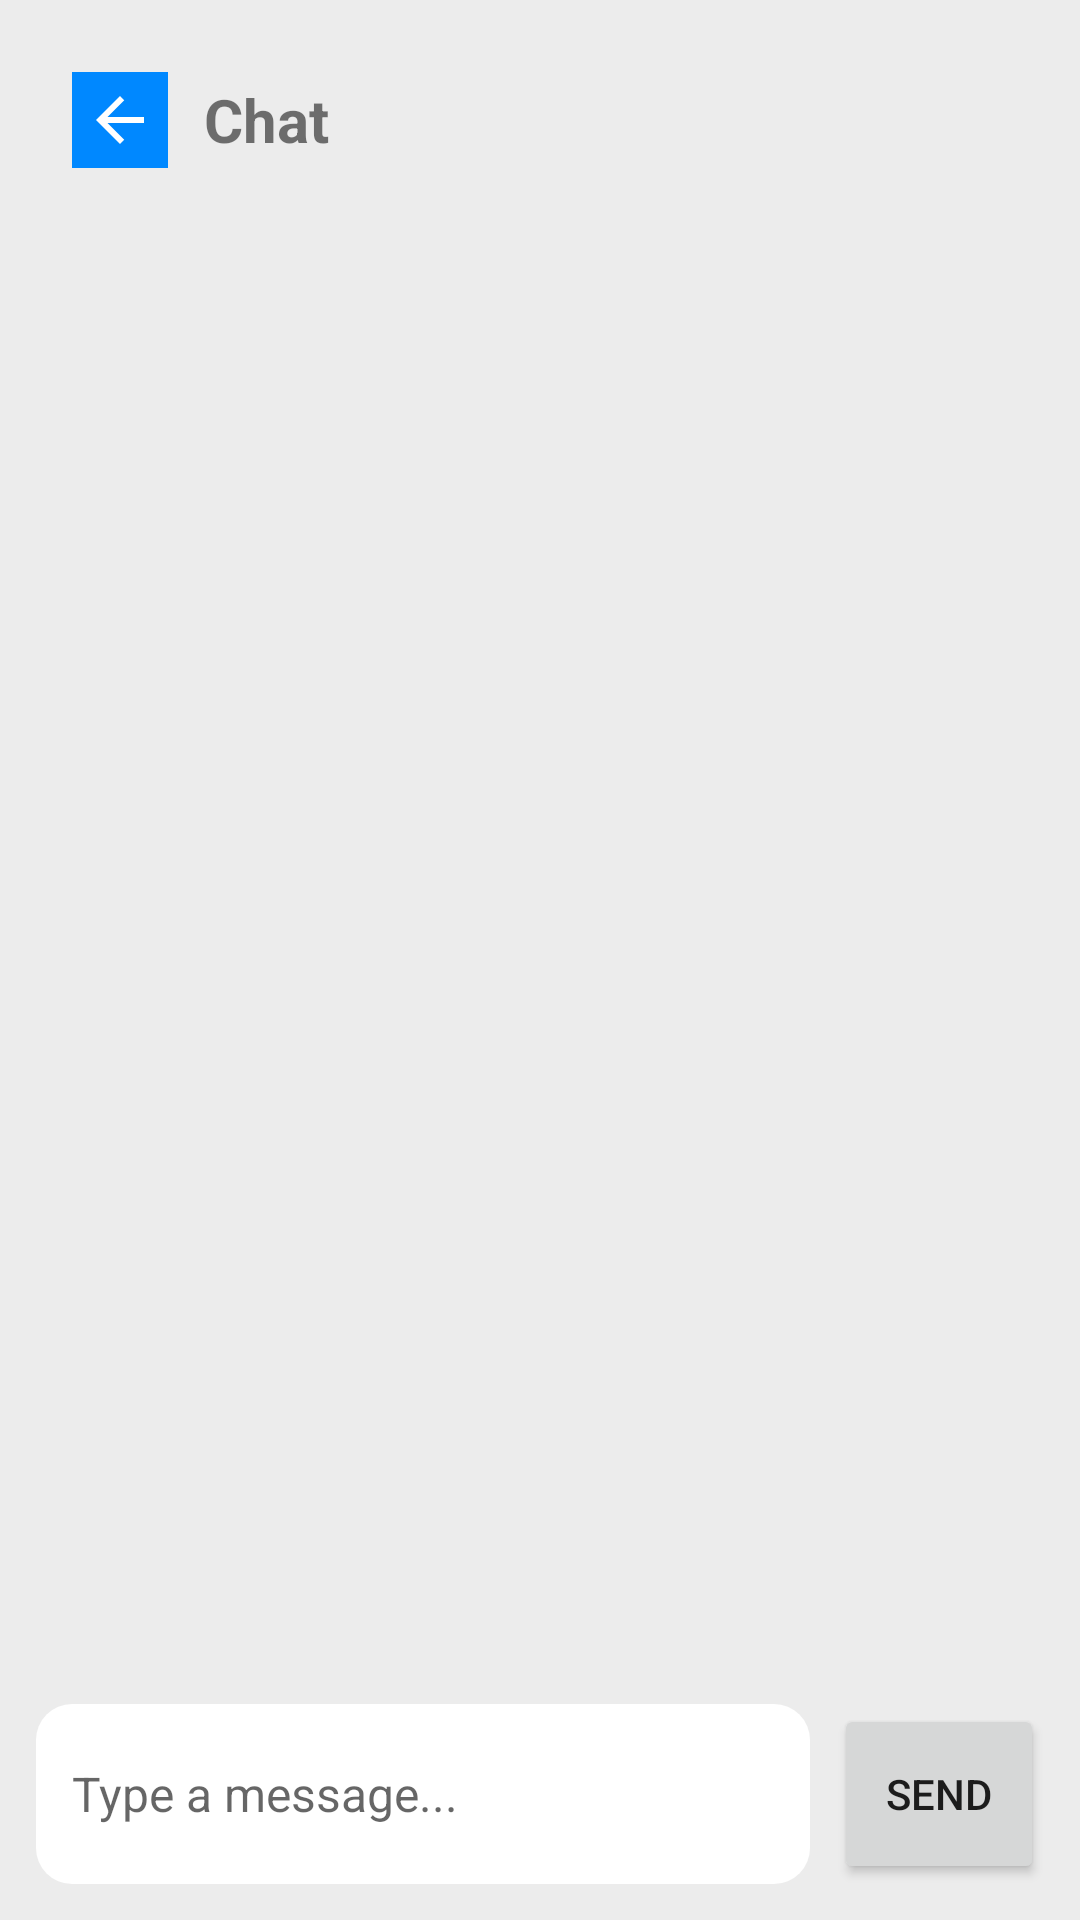

Named icons in this screenshot (1080*1920) and their bounding boxes, region(x1, y1, x2, y2):
Back: region(72, 72, 168, 168)
